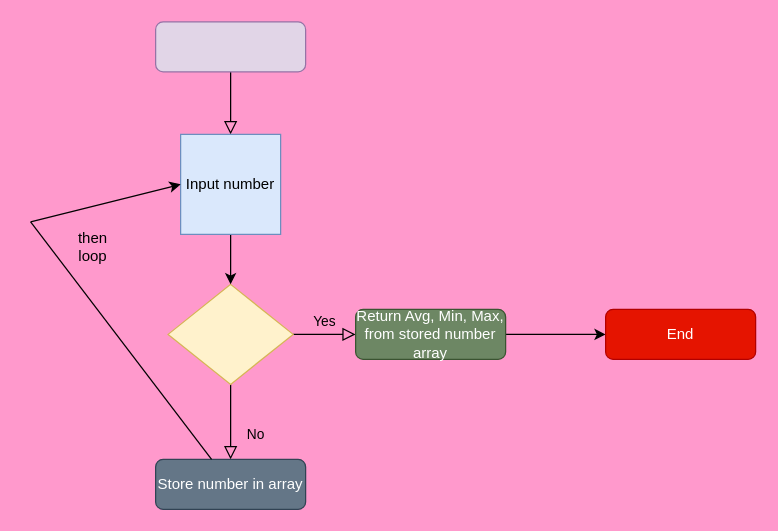
Some shapes in this 778 by 531 pixel diagram are drawn without their labels. Here are the shapes that lost their labels. From the top down, the box of each, then its label:
(154, 21, 306, 72): Start
(167, 283, 293, 384): Number is 0
